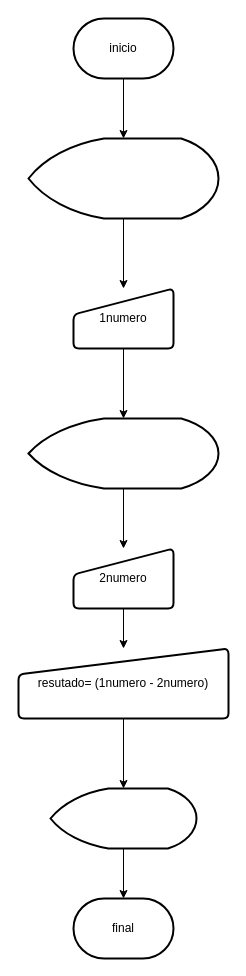
Some shapes in this 246 by 976 pixel diagram are drawn without their labels. Here are the shapes that lost their labels. From the top down, the centre of each, then its label:
the point at 123,178: digite o primeiro numero
the point at 123,453: digite o segundo numero
the point at 123,818: "o resultado é" = resultado
